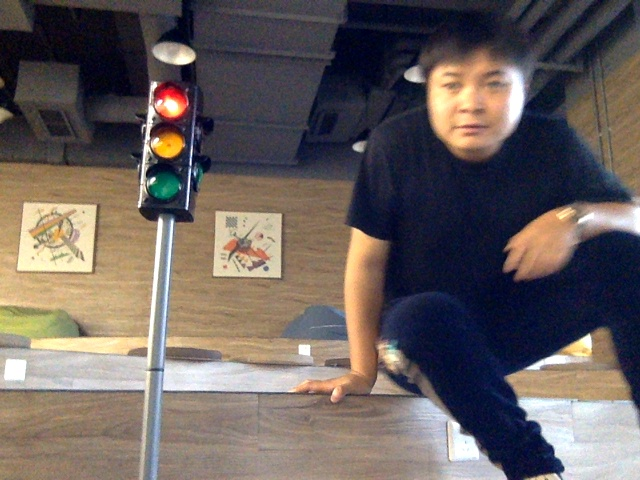red: (149, 85, 188, 202)
